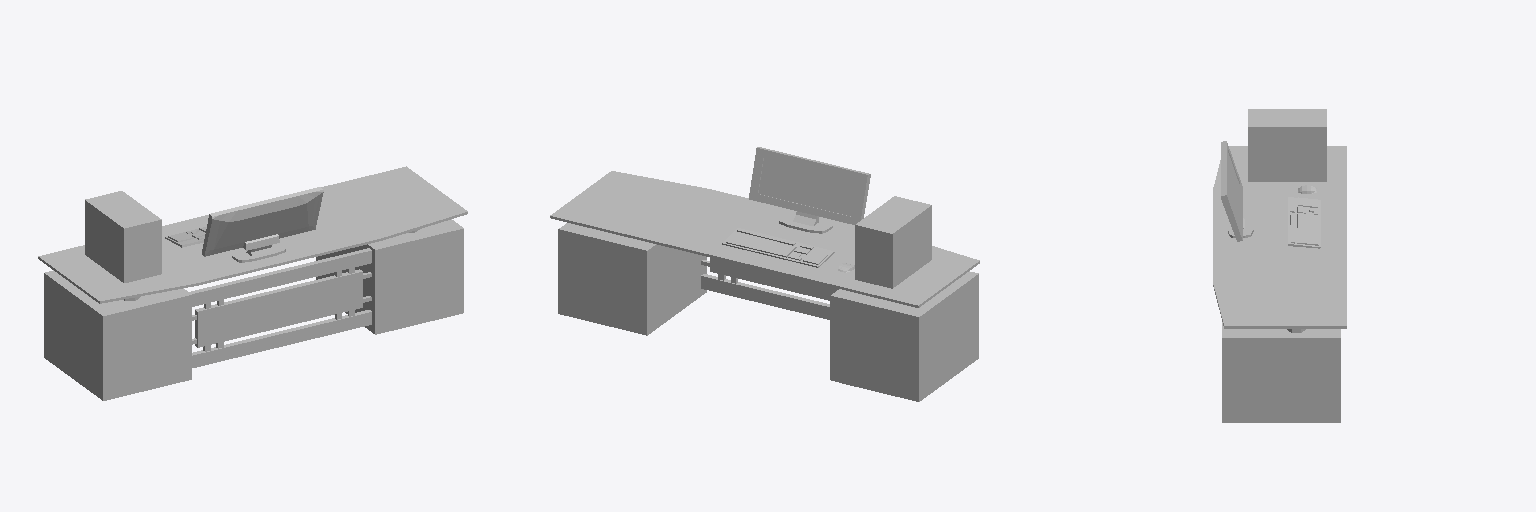
The model's file is escritorio.obj.
3 renders of one model, left to right at view 1: azimuth 30°, elevation 25°; view 2: azimuth 150°, elevation 25°; view 3: azimuth 270°, elevation 25°, orthographic.
Visible parts, largest first — view 1: MaterialFBXASC032FBXASC0353.111; view 2: MaterialFBXASC032FBXASC0353.111; view 3: MaterialFBXASC032FBXASC0353.111.
Part boxes in pixels (bbox=[...]): MaterialFBXASC032FBXASC0353.111: bbox=[38, 166, 467, 400]; MaterialFBXASC032FBXASC0353.111: bbox=[550, 147, 979, 401]; MaterialFBXASC032FBXASC0353.111: bbox=[1213, 109, 1346, 422].
Size of the model in its own units: 3.63 by 1.5 by 1.15.